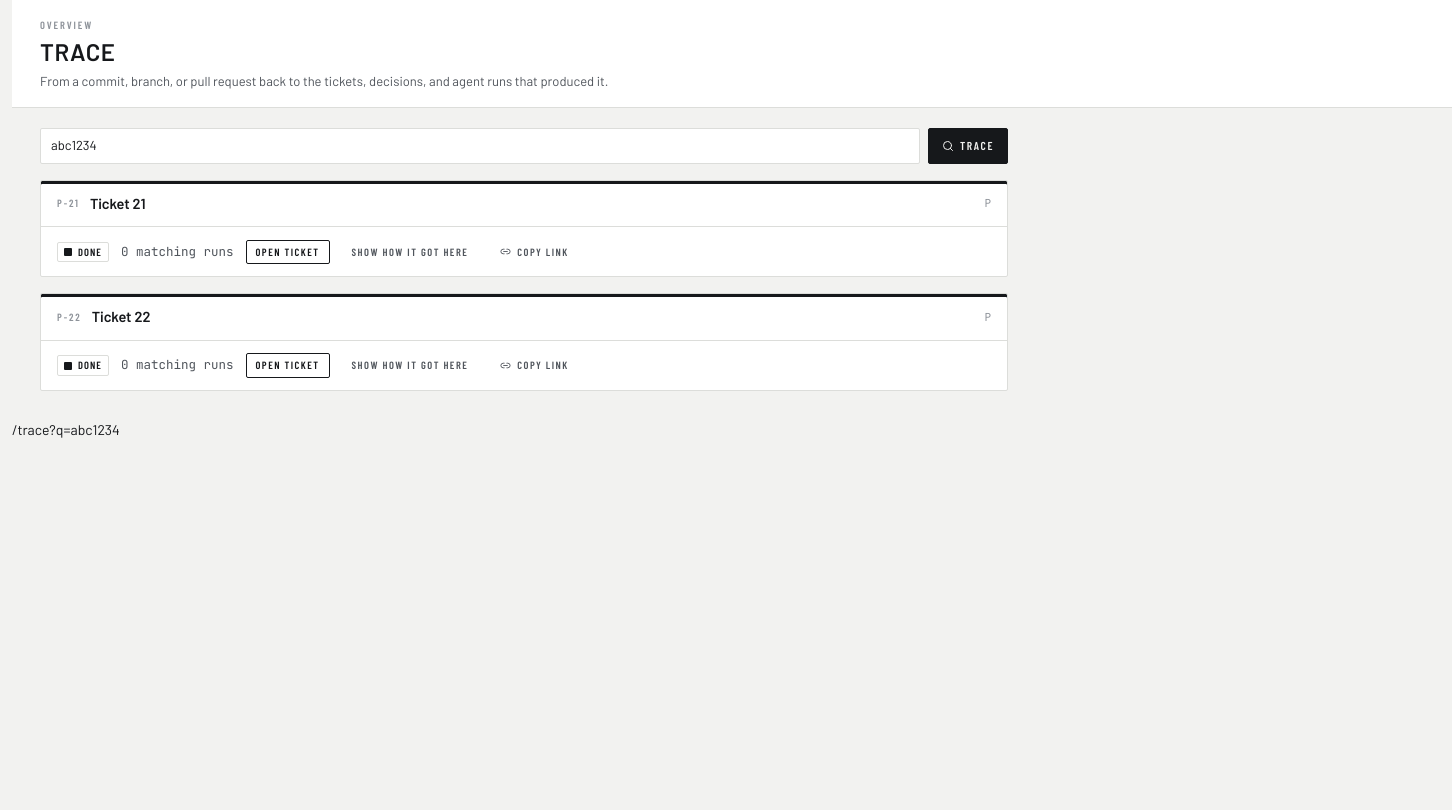
Test case: Trace in the URL › toggling a story adds and removes it in ?open=
Expected: the heading "Ticket 21" is shown, [90, 193, 146, 214]
Click the button "Show how it got here" below "Ticket 21".
click(410, 252)  # box [342, 240, 478, 264]
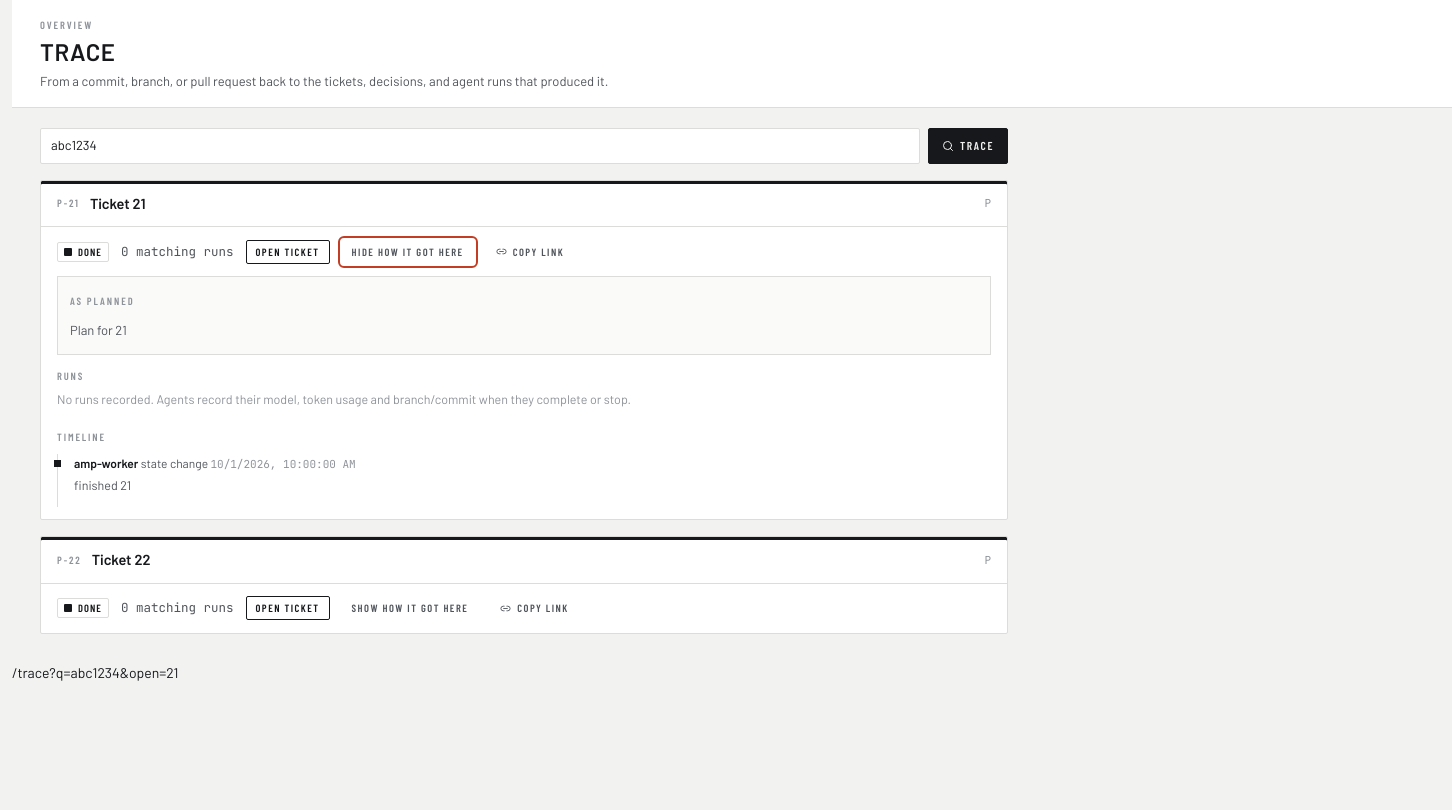
Now the text with test id "url" reads "/trace?q=abc1234&open=21", box [12, 664, 178, 681]
Click the button "Show how it got here".
click(410, 608)  # box [342, 596, 478, 620]
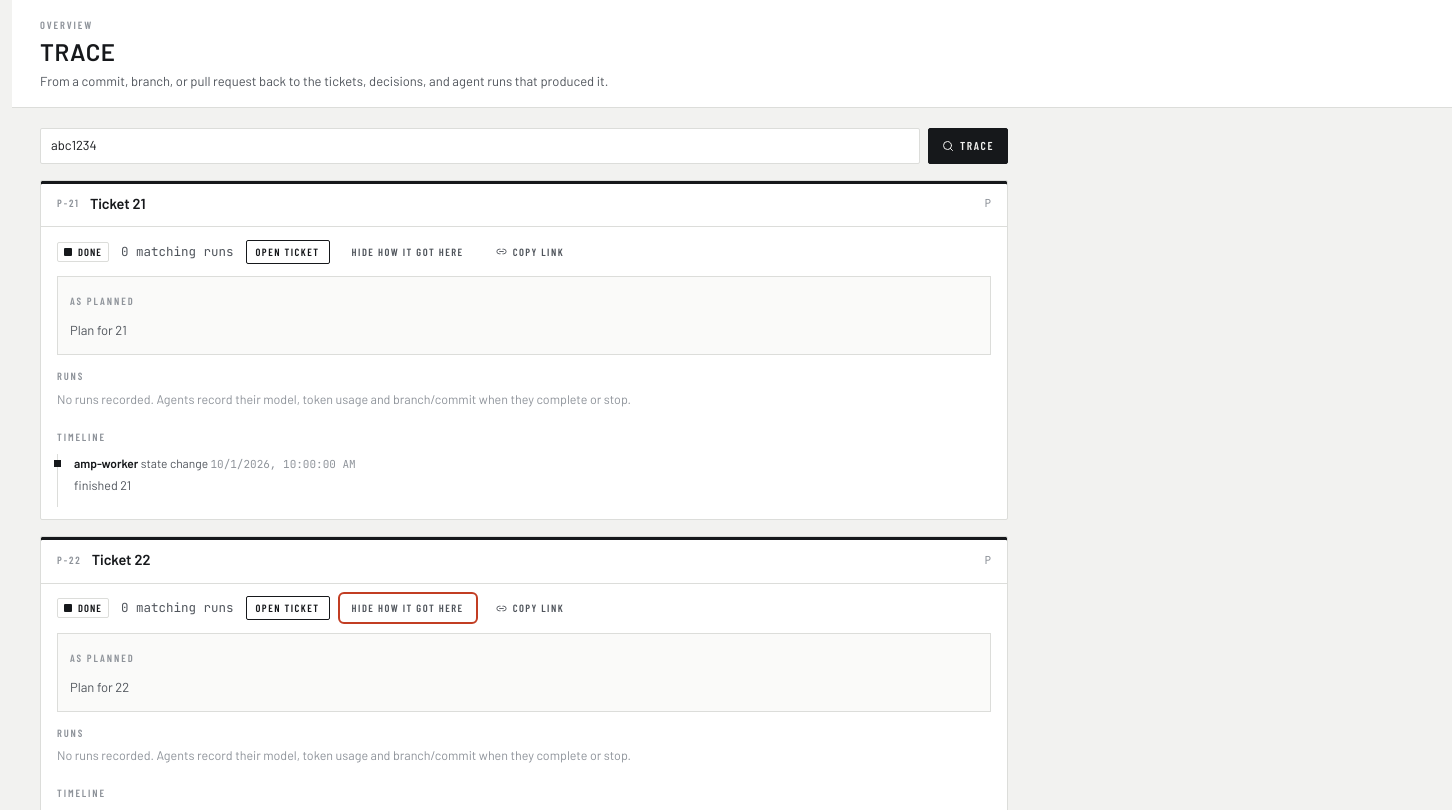
Click the button "Hide how it got here" below "Ticket 21".
click(408, 252)  # box [342, 240, 474, 264]
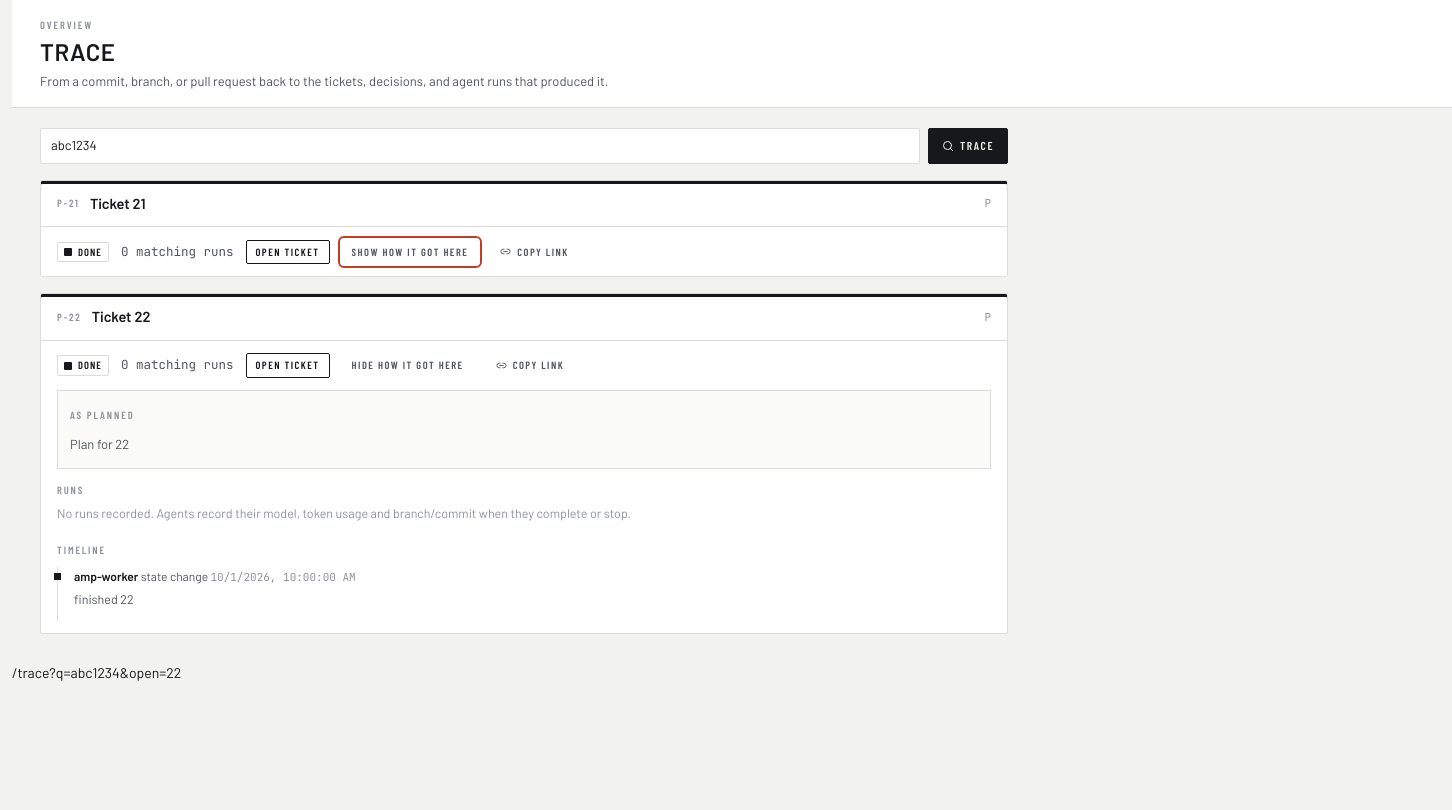
Now the text with test id "url" reads "/trace?q=abc1234&open=22", box [12, 664, 181, 681]
